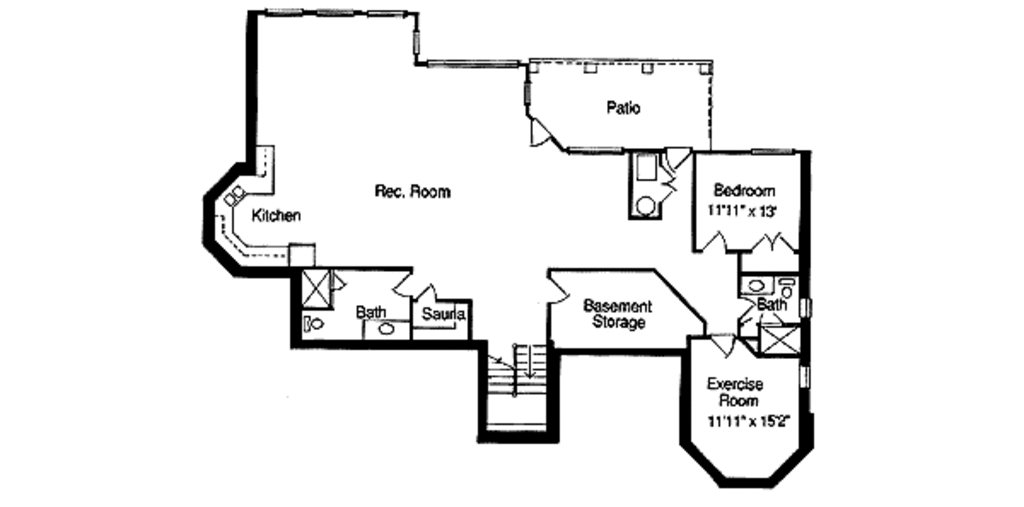door: (705, 329, 740, 365), (385, 267, 418, 303), (758, 228, 795, 258), (538, 271, 571, 304), (654, 159, 676, 202), (413, 279, 442, 310), (529, 113, 553, 147), (699, 230, 732, 254), (662, 144, 692, 170)
large_sink: (775, 274, 802, 304), (298, 312, 332, 335)
small_sink: (368, 311, 410, 343), (739, 272, 777, 296)
stairs: (474, 326, 552, 437)
twin_sink: (210, 179, 257, 219)
window: (421, 52, 528, 72), (564, 143, 623, 161)
